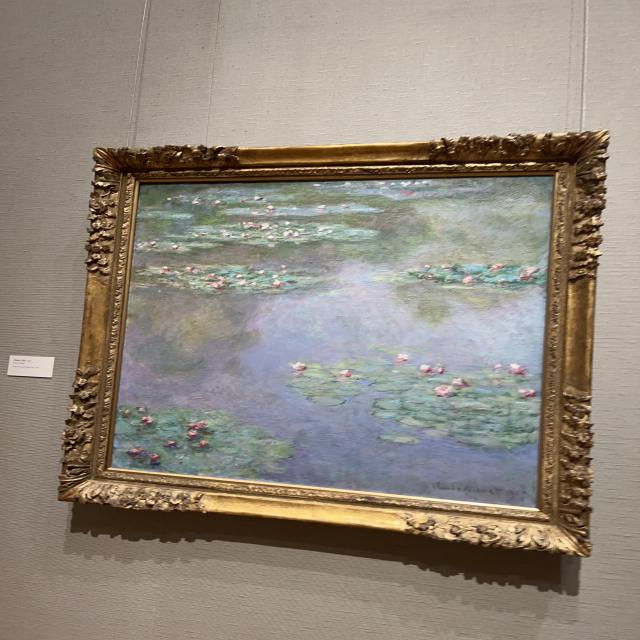lilies: (113, 180, 551, 503)
